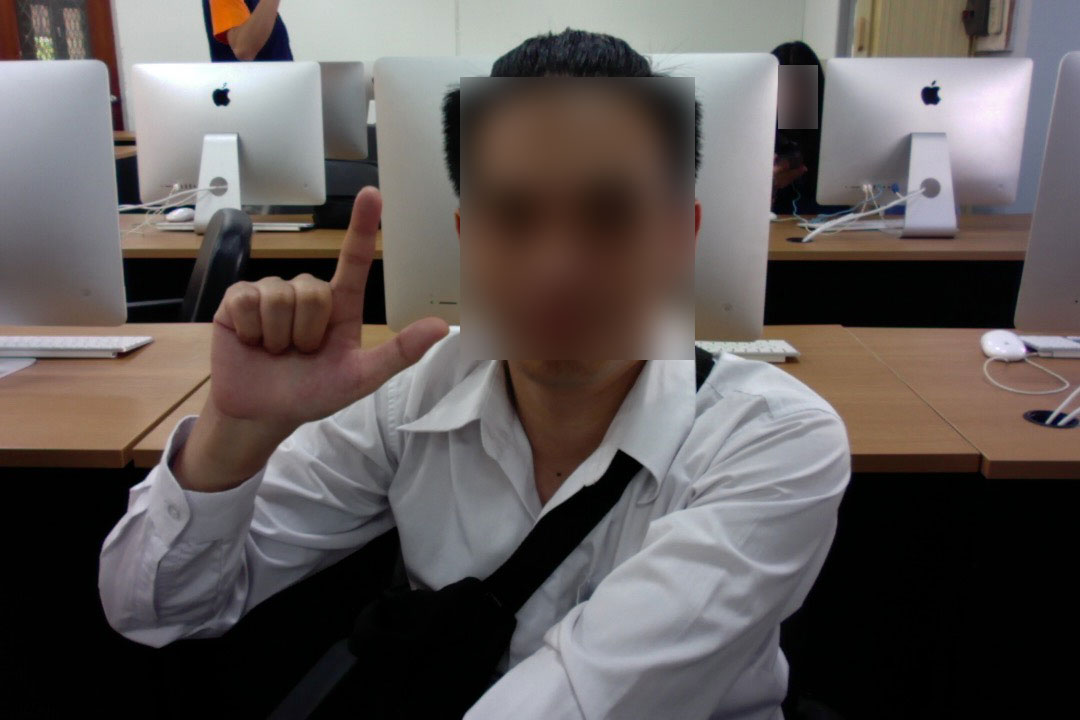lor: (171, 166, 456, 428)
